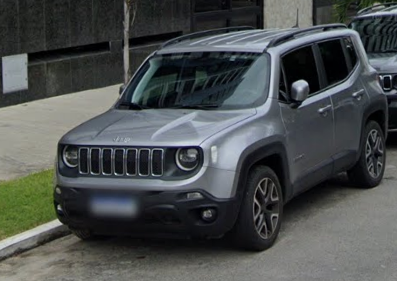car: (51, 25, 387, 249)
